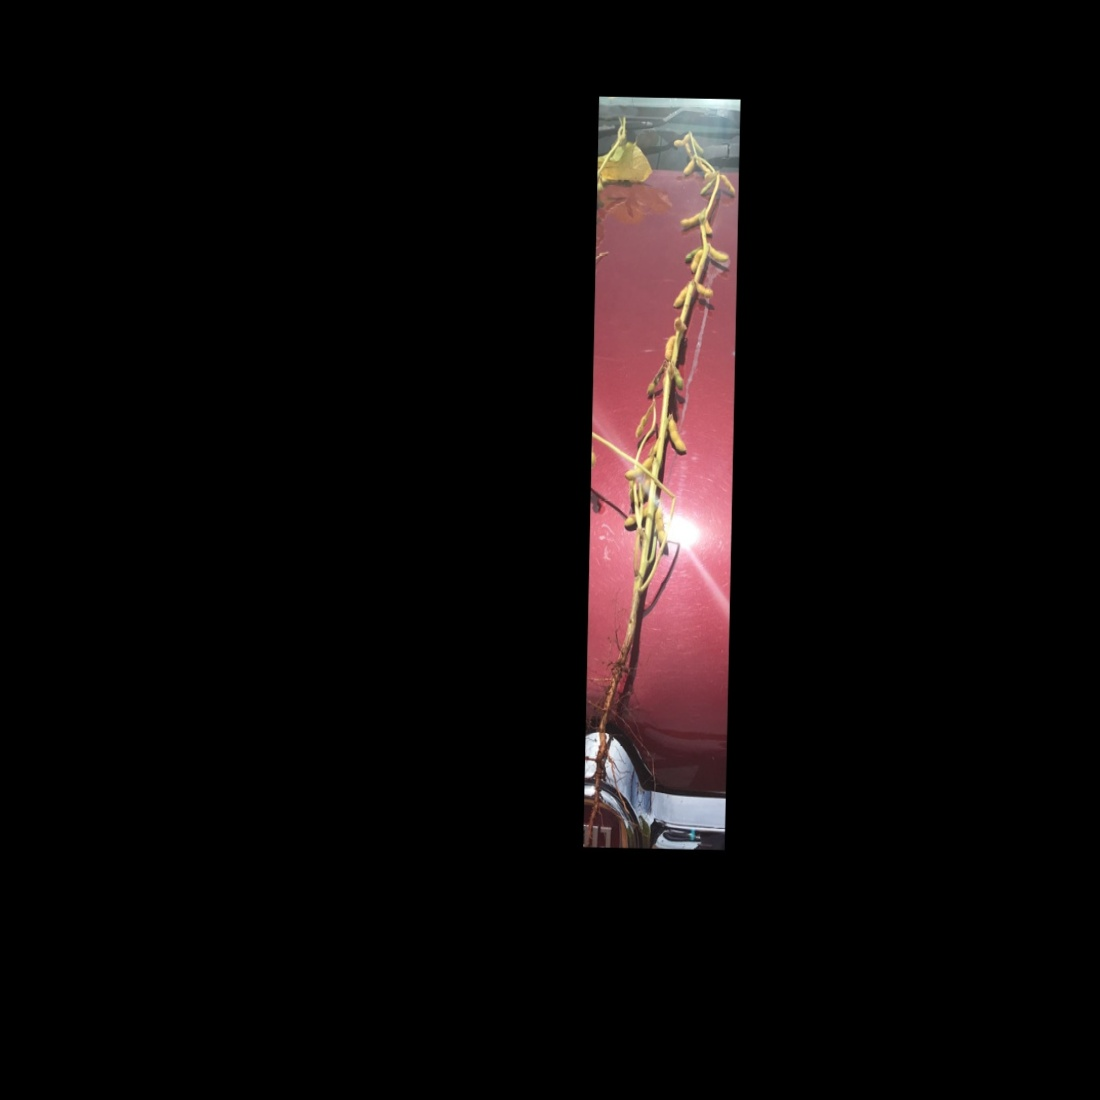pod: (666, 412, 689, 457), (631, 402, 653, 439), (623, 455, 652, 482), (653, 506, 668, 550), (719, 168, 738, 199), (669, 281, 687, 310), (707, 242, 730, 264), (694, 281, 717, 300), (677, 210, 701, 226), (670, 131, 691, 148), (681, 156, 697, 178), (697, 178, 714, 198), (672, 367, 685, 392)
soy: (585, 120, 734, 786)
